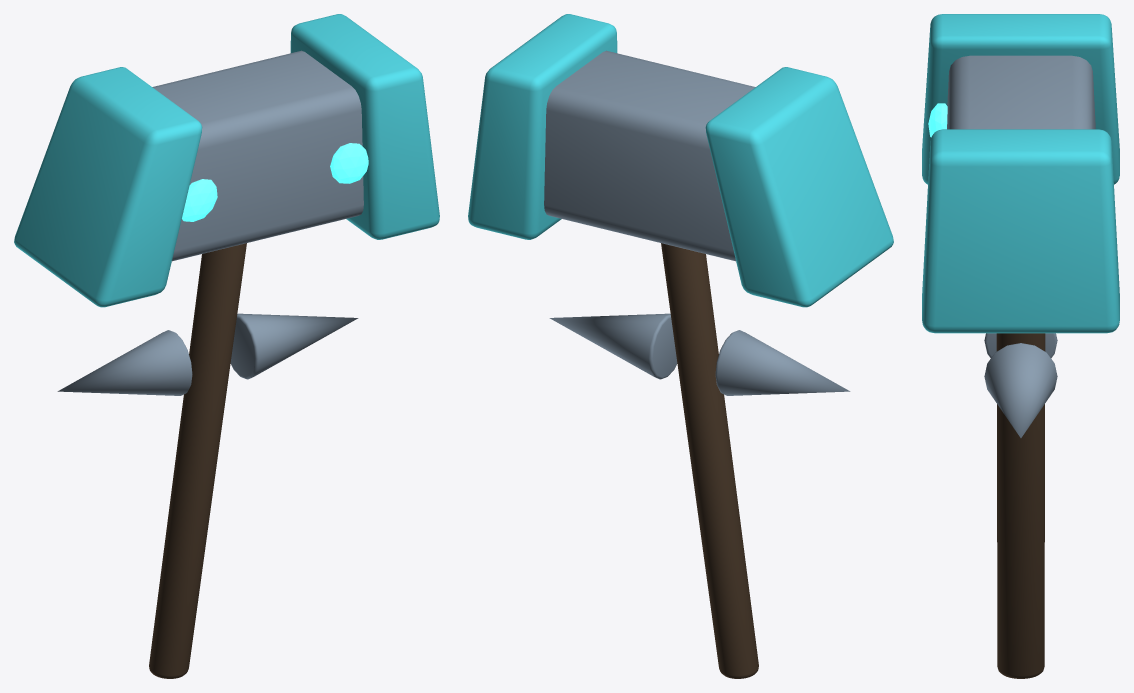
Rendered from hammer_v7.glb.
The picture shows the model from 3 angles, left to right: view 1: azimuth 30°, elevation 25°; view 2: azimuth 150°, elevation 25°; view 3: azimuth 270°, elevation 25°; orthographic projection. The views are drawn at different scales.
Parts seen in each view (by area): view 1: HAMMER_FACE_L_ACCENT, HAMMER_CORE_PRIMARY, HAFT_SECONDARY, HAMMER_FACE_R_ACCENT, BRUTAL_SPIKE_PRIMARY, BRUTAL_SPIKE_PRIMARY.001, HAMMER_RUNE_EMISSIVE.001, HAMMER_RUNE_EMISSIVE; view 2: HAMMER_FACE_L_ACCENT, HAMMER_CORE_PRIMARY, HAFT_SECONDARY, HAMMER_FACE_R_ACCENT, BRUTAL_SPIKE_PRIMARY, BRUTAL_SPIKE_PRIMARY.001; view 3: HAMMER_FACE_R_ACCENT, HAFT_SECONDARY, HAMMER_FACE_L_ACCENT, HAMMER_CORE_PRIMARY, BRUTAL_SPIKE_PRIMARY.001, BRUTAL_SPIKE_PRIMARY, HAMMER_RUNE_EMISSIVE.
Boxes of the visible parts, x1,y1,x2,y2 form: HAMMER_FACE_L_ACCENT: (14,67,202,307); HAMMER_CORE_PRIMARY: (152,50,363,261); HAFT_SECONDARY: (149,243,246,678); HAMMER_FACE_R_ACCENT: (290,14,439,239); BRUTAL_SPIKE_PRIMARY: (57,330,192,395); BRUTAL_SPIKE_PRIMARY.001: (230,313,358,379); HAMMER_RUNE_EMISSIVE.001: (330,143,368,183); HAMMER_RUNE_EMISSIVE: (182,179,217,221); HAMMER_FACE_L_ACCENT: (705,67,893,307); HAMMER_CORE_PRIMARY: (544,50,755,261); HAFT_SECONDARY: (661,243,758,678); HAMMER_FACE_R_ACCENT: (468,14,617,239); BRUTAL_SPIKE_PRIMARY: (715,330,850,395); BRUTAL_SPIKE_PRIMARY.001: (549,313,677,379); HAMMER_FACE_R_ACCENT: (922,129,1119,333); HAFT_SECONDARY: (996,333,1045,678); HAMMER_FACE_L_ACCENT: (922,14,1119,184); HAMMER_CORE_PRIMARY: (947,55,1095,129); BRUTAL_SPIKE_PRIMARY.001: (984,343,1057,437); BRUTAL_SPIKE_PRIMARY: (984,333,1057,358); HAMMER_RUNE_EMISSIVE: (928,103,947,137).
Bounding box in the file's own units: 2.08 × 3.35 × 0.9503.
